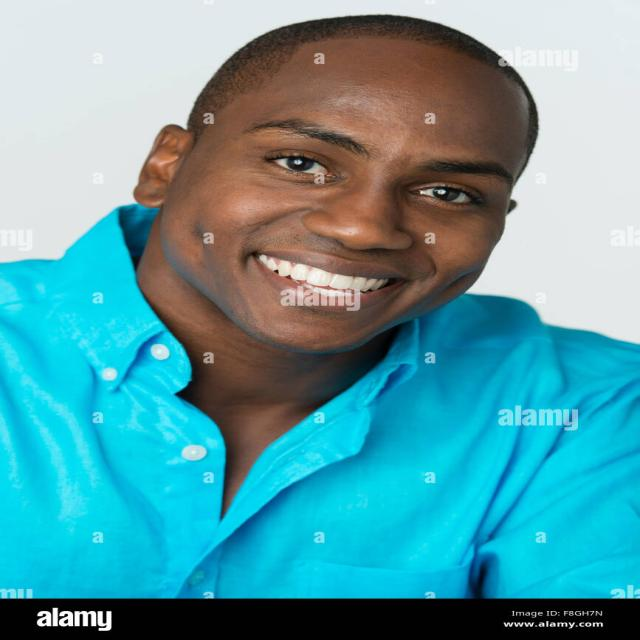sem_oculos: (177, 110, 530, 217)
